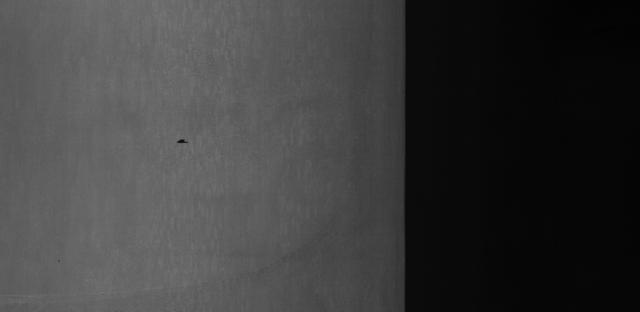inclusion: (168, 133, 190, 150)
